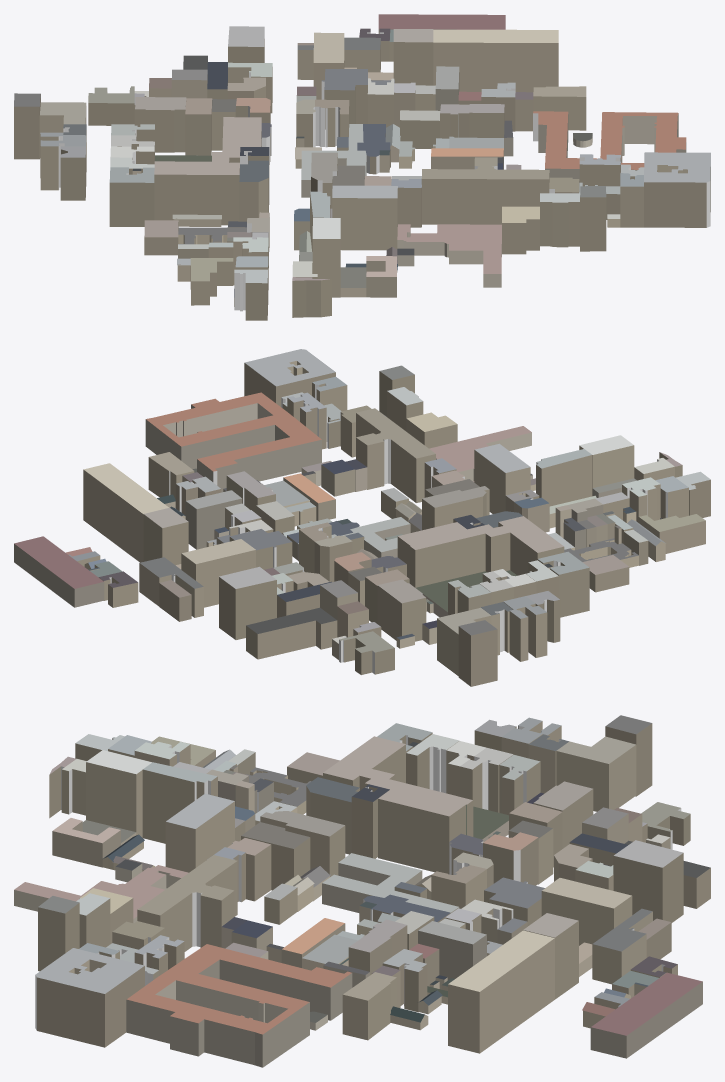
The picture shows the model from 3 angles, top to bottom: view 1: azimuth 30°, elevation 25°; view 2: azimuth 150°, elevation 25°; view 3: azimuth 270°, elevation 25°; orthographic projection. The views are drawn at different scales.
Parts seen in each view (by area): view 1: tuile; view 2: tuile; view 3: tuile.
Part boxes in pixels (<box>): tuile: <box>14,14,710,320</box>; tuile: <box>14,349,710,686</box>; tuile: <box>14,715,710,1067</box>.
Size of the model in its own units: 297 by 33.79 by 286.
